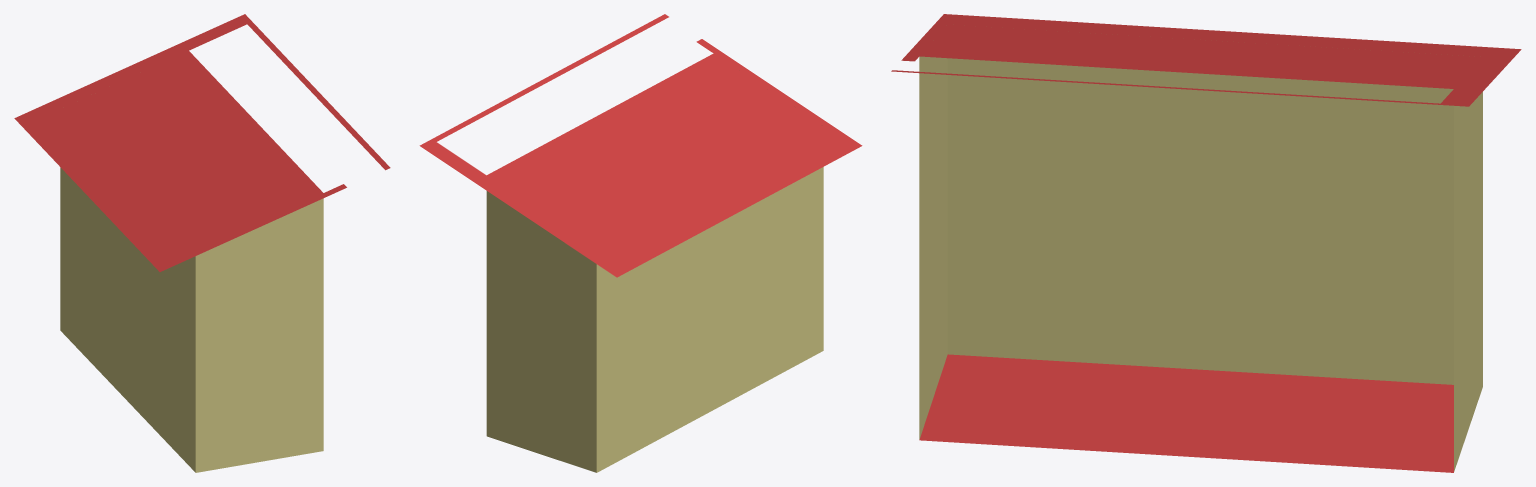
3 renders of one model, left to right at view 1: azimuth 30°, elevation 25°; view 2: azimuth 150°, elevation 25°; view 3: azimuth 270°, elevation 25°, orthographic. The views are drawn at different scales.
Bounding box in the file's own units: 6.95 × 9.76 × 7.01.
